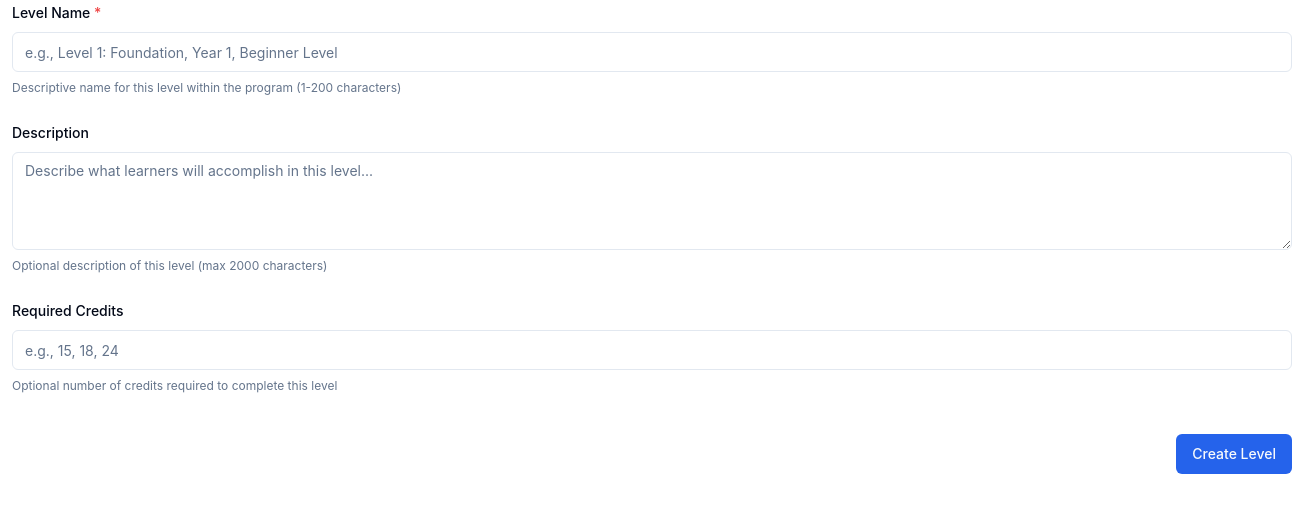
ProgramLevelForm › Form Validation › should validate required name field
The width and height of the screenshot is (1304, 523).
Click the button "Create Level": (1234, 454) [1176, 434, 1292, 474]
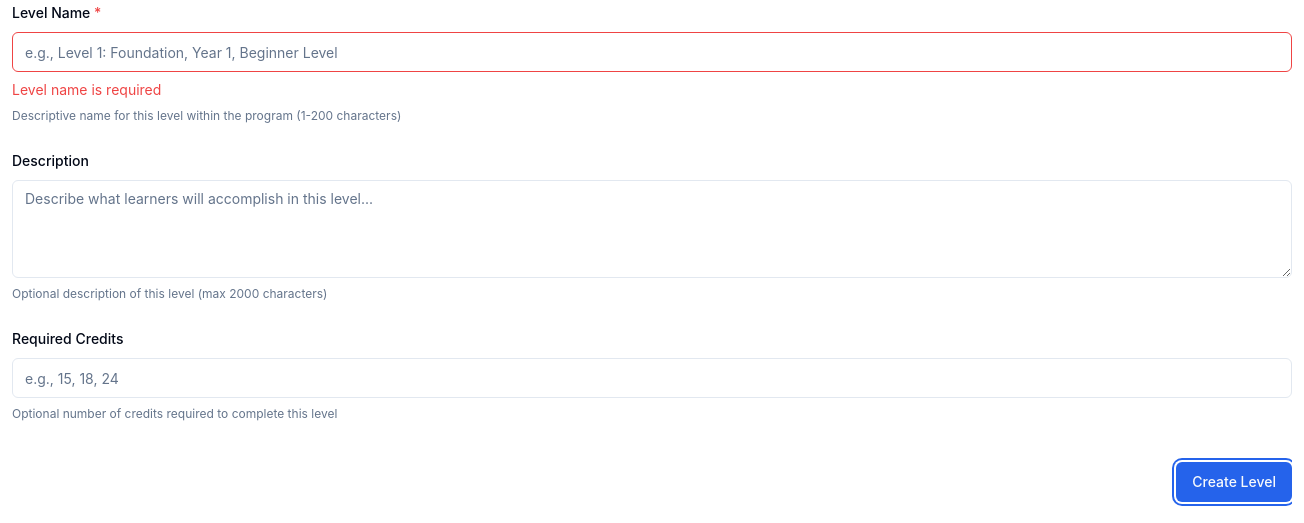
Expected: the text "Level name is required" is shown, [12, 81, 161, 98]
